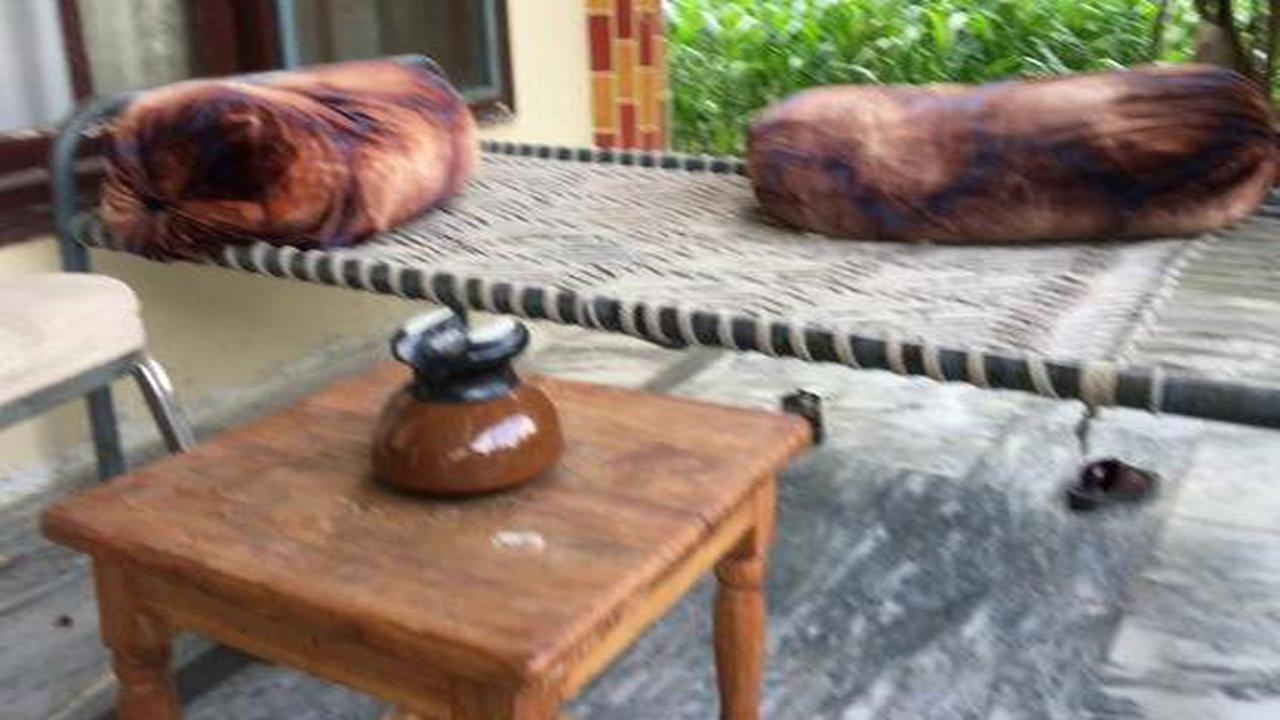insulator_pin: (357, 296, 573, 513)
